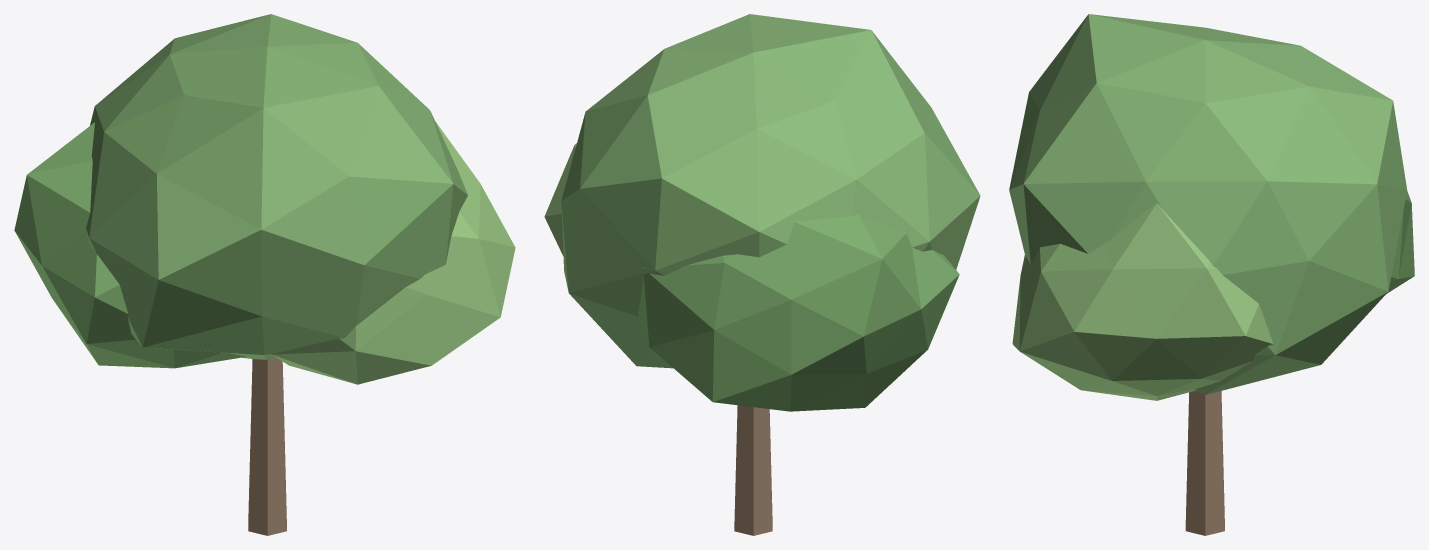
The model's file is pecan_tree.glb.
The picture shows the model from 3 angles, left to right: view 1: azimuth 30°, elevation 25°; view 2: azimuth 150°, elevation 25°; view 3: azimuth 270°, elevation 25°; orthographic projection. The views are drawn at different scales.
Parts seen in each view (by area): view 1: pecan_tree; view 2: pecan_tree; view 3: pecan_tree.
Boxes of the visible parts, bbox=[...] form: pecan_tree: bbox=[14, 14, 515, 535]; pecan_tree: bbox=[544, 14, 980, 535]; pecan_tree: bbox=[1009, 14, 1414, 535].
Bounding box in the file's own units: 5.73 × 6.65 × 5.03.
